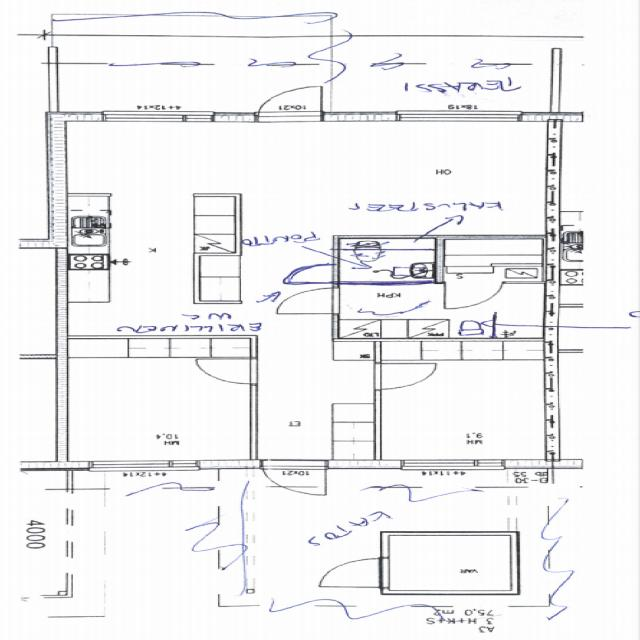door: (258, 82, 322, 121), (262, 460, 326, 498), (316, 558, 390, 587), (374, 363, 440, 389), (276, 288, 341, 314), (445, 281, 501, 309), (195, 359, 257, 384), (294, 261, 341, 279)
